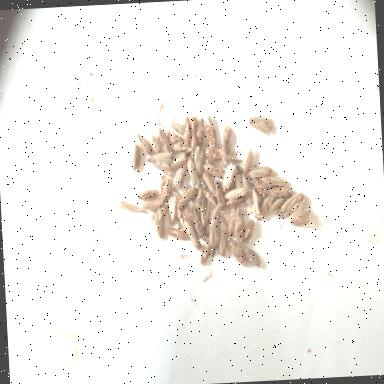pbw: (276, 191, 306, 217), (225, 236, 247, 266), (150, 149, 173, 177), (207, 212, 223, 252), (188, 204, 207, 237), (288, 202, 314, 226), (247, 114, 275, 136), (200, 113, 218, 146), (237, 217, 256, 248), (232, 204, 247, 240), (147, 202, 170, 224), (257, 174, 288, 190), (219, 161, 236, 190), (192, 146, 208, 176), (262, 184, 292, 200), (201, 168, 217, 198), (186, 156, 201, 188), (240, 172, 254, 206), (158, 124, 172, 158), (177, 187, 198, 209), (249, 173, 267, 198), (158, 172, 173, 202), (134, 131, 152, 156), (255, 195, 273, 220), (247, 184, 261, 216), (202, 186, 220, 210), (198, 236, 212, 266), (183, 203, 197, 233), (184, 220, 198, 250), (242, 246, 261, 268), (232, 164, 245, 196), (166, 224, 188, 242), (204, 162, 226, 180), (240, 144, 254, 172), (118, 198, 141, 215), (222, 185, 248, 200), (171, 162, 187, 186), (236, 162, 253, 184), (154, 206, 165, 240), (213, 178, 226, 206), (136, 187, 162, 201), (266, 196, 286, 214), (247, 164, 272, 178), (220, 123, 232, 152), (169, 151, 188, 169), (226, 206, 237, 236), (148, 131, 162, 154), (200, 196, 210, 228), (182, 113, 192, 144), (168, 194, 178, 225), (213, 146, 227, 168), (130, 144, 141, 172), (187, 133, 198, 160), (166, 128, 184, 144), (218, 228, 228, 256), (194, 185, 204, 212), (173, 194, 184, 218), (220, 151, 242, 163), (140, 199, 164, 210), (171, 142, 191, 154), (226, 195, 246, 206), (171, 119, 185, 133), (195, 126, 204, 146), (190, 114, 198, 134), (178, 212, 186, 228)
